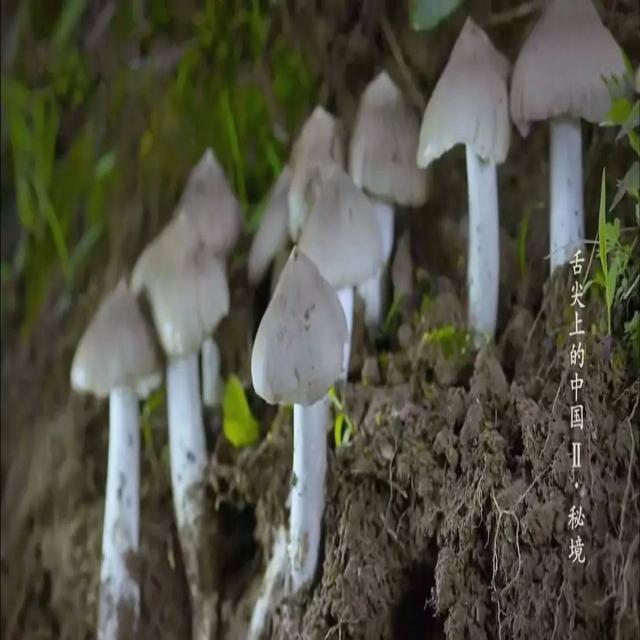Collybia albuminosa: (136, 207, 229, 629), (252, 245, 349, 586), (70, 276, 160, 634), (514, 0, 634, 260), (417, 17, 510, 336), (302, 162, 380, 391)
